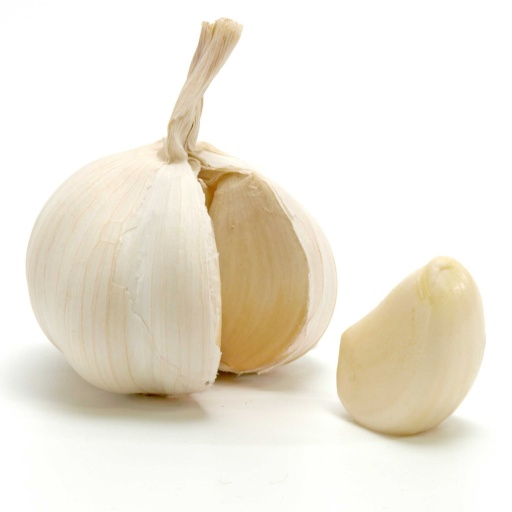Knoblauch: (25, 17, 336, 394)
